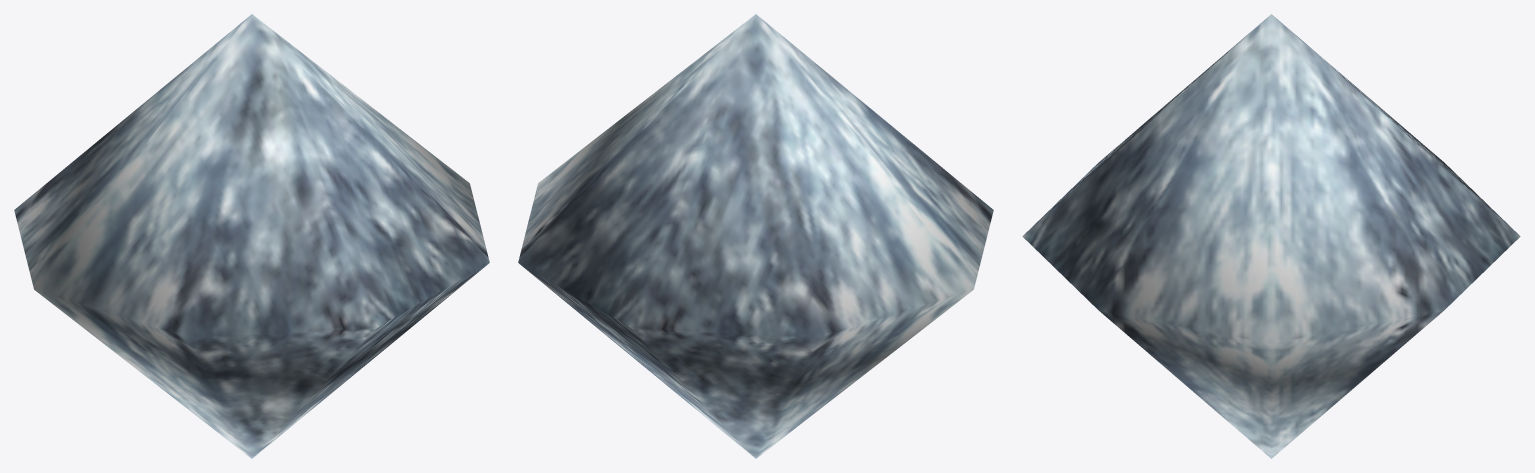
Rendered from Item0902.obj.
The picture shows the model from 3 angles, left to right: view 1: azimuth 30°, elevation 25°; view 2: azimuth 150°, elevation 25°; view 3: azimuth 270°, elevation 25°; orthographic projection.
Parts seen in each view (by area): view 1: 0; view 2: 0; view 3: 0.
Boxes of the visible parts, x1,y1,x2,y2 form: 0: (14, 14, 489, 458); 0: (518, 14, 993, 458); 0: (1022, 14, 1520, 458).
Size of the model in its own units: 15.15 by 14.78 by 15.
